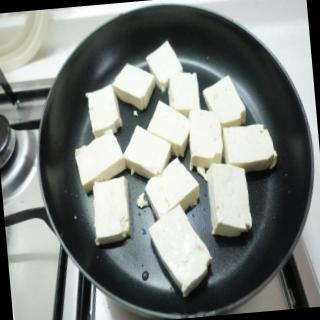Tahu: (54, 31, 302, 302)
